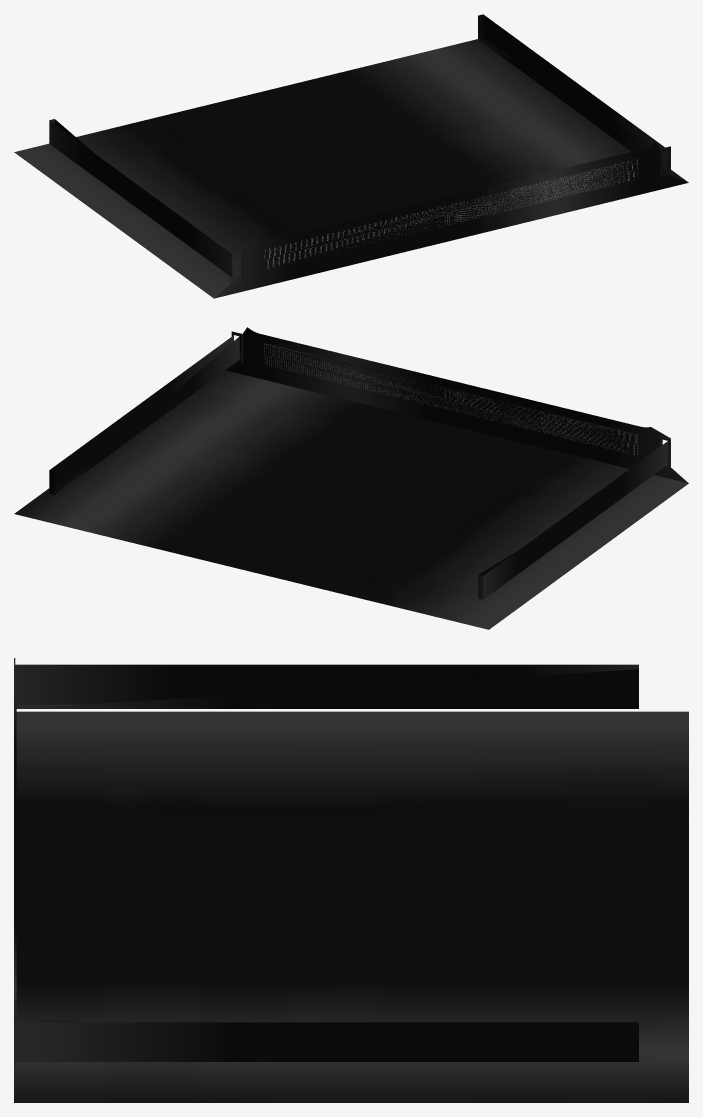
3 renders of one model, top to bottom at view 1: azimuth 30°, elevation 25°; view 2: azimuth 150°, elevation 25°; view 3: azimuth 270°, elevation 25°, orthographic. The views are drawn at different scales.
Size of the model in its own units: 1.08 by 0.1053 by 0.7855.
